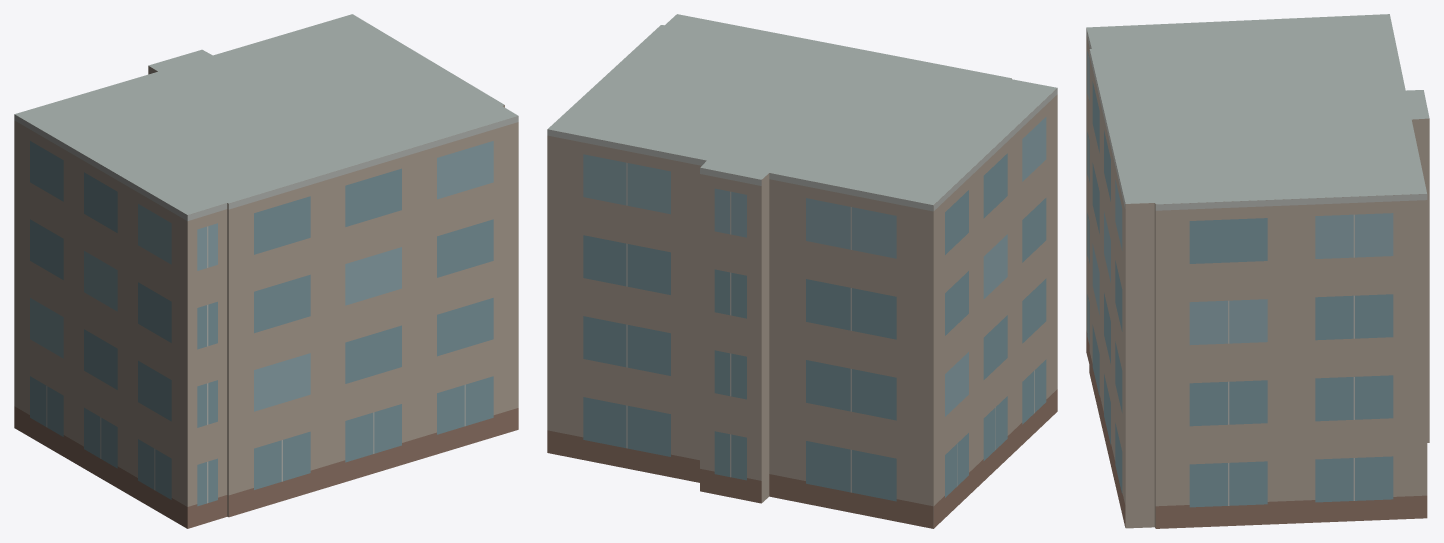
File: survey-upis-32655278.glb
3 views of the same model, side by side, from view 1: azimuth 30°, elevation 25°; view 2: azimuth 150°, elevation 25°; view 3: azimuth 270°, elevation 25° (orthographic). The views are drawn at different scales.
Parts seen in each view (by area): view 1: survey-upis-32655278.tmp; view 2: survey-upis-32655278.tmp; view 3: survey-upis-32655278.tmp.
Boxes of the visible parts, <box> form: survey-upis-32655278.tmp: <box>14,14,518,528</box>; survey-upis-32655278.tmp: <box>547,14,1057,528</box>; survey-upis-32655278.tmp: <box>1086,14,1429,528</box>.
Bounding box in the file's own units: 15.81 × 12.55 × 12.04.
